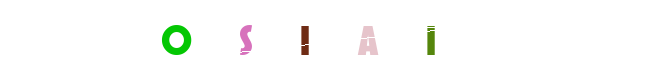A: (283, 0, 363, 80)
I: (276, 0, 356, 80), (326, 0, 406, 80)
O: (136, 0, 216, 80)
S: (274, 0, 354, 80)
